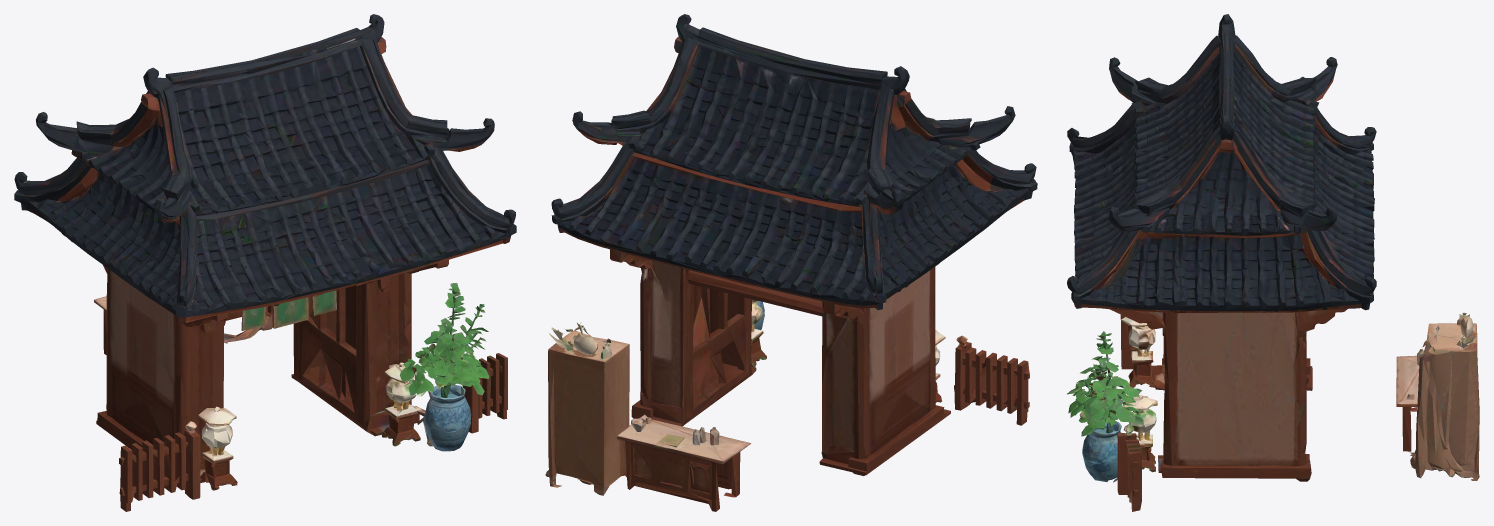
Rendered from garden-entrance.glb.
3 views of the same model, side by side, from view 1: azimuth 30°, elevation 25°; view 2: azimuth 150°, elevation 25°; view 3: azimuth 270°, elevation 25° (orthographic). The views are drawn at different scales.
Size of the model in its own units: 1.86 by 1.8 by 1.85.
Materials: 1 (1 with a texture image).
